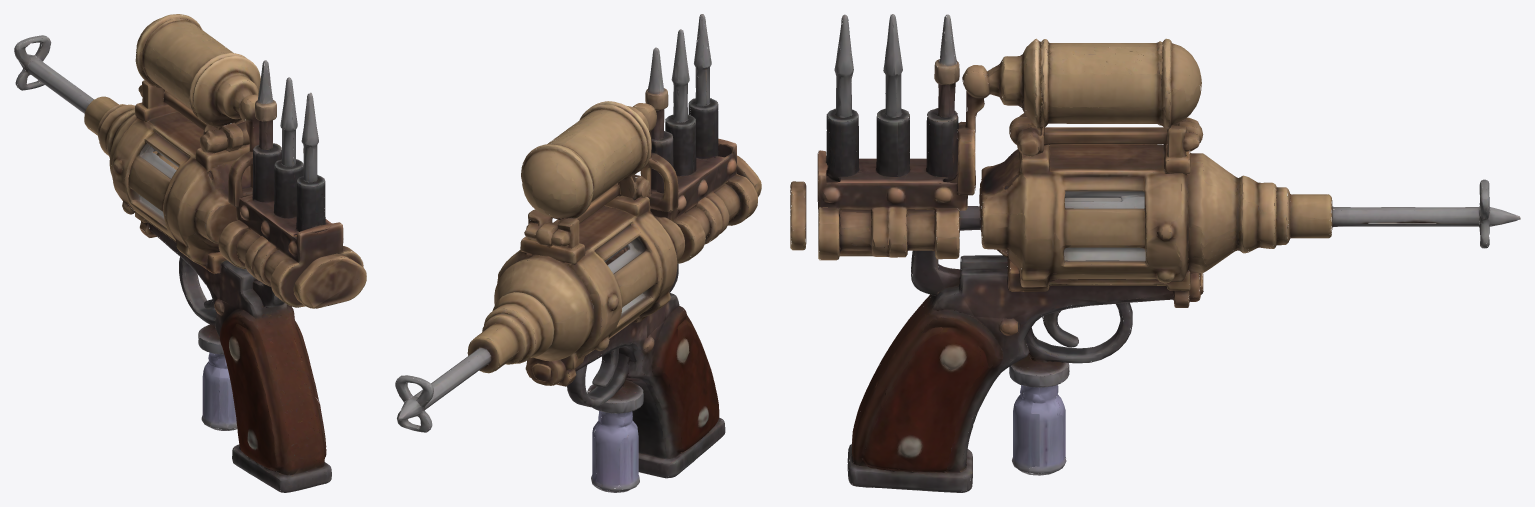
Rendered from crop_syringe.glb.
3 views of the same model, side by side, from view 1: azimuth 30°, elevation 25°; view 2: azimuth 150°, elevation 25°; view 3: azimuth 270°, elevation 25° (orthographic). The views are drawn at different scales.
Parts seen in each view (by area): view 1: body, shell; view 2: body, shell; view 3: body, shell.
Boxes of the visible parts, bbox=[...] form: body: bbox=[84, 14, 366, 492]; shell: bbox=[14, 35, 93, 113]; body: bbox=[467, 14, 761, 492]; shell: bbox=[395, 339, 498, 432]; body: bbox=[790, 14, 1331, 492]; shell: bbox=[1331, 179, 1520, 248].
Size of the model in its own units: 0.0889 by 0.302 by 0.4281.
1 material, 1 textured.
